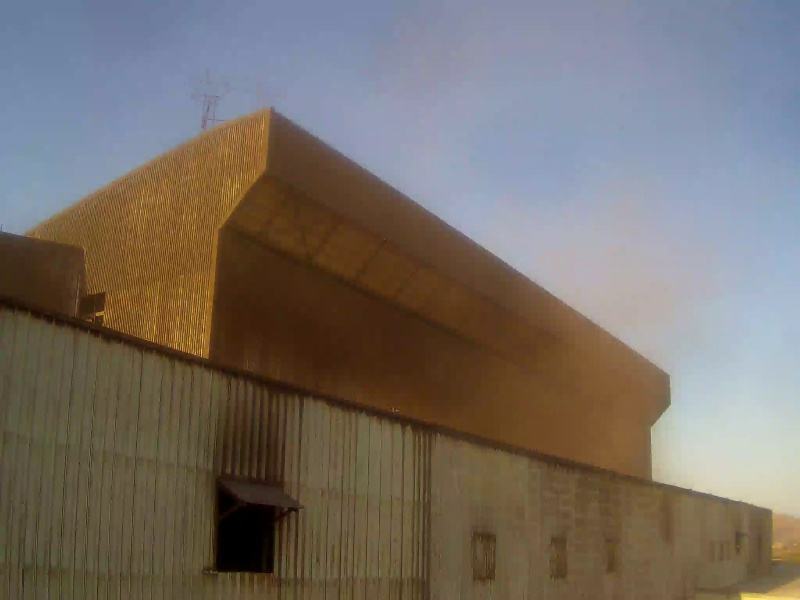Pessimo: (257, 129, 685, 492)
